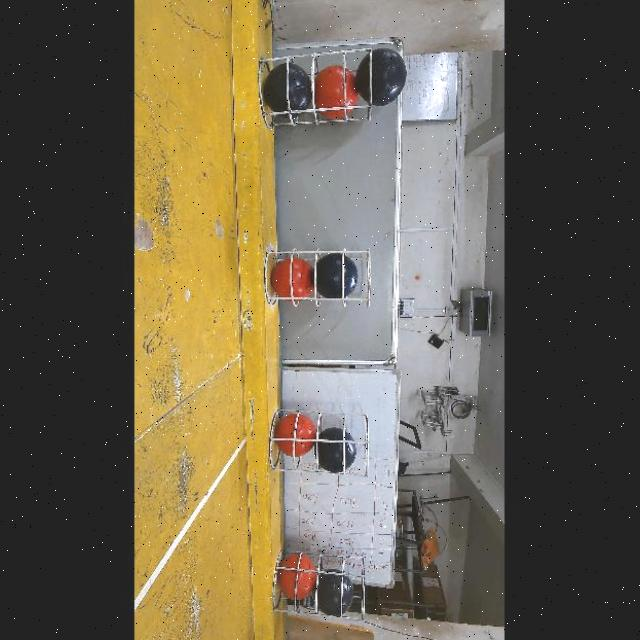P: (355, 48, 407, 106), (264, 60, 311, 116), (315, 253, 358, 298), (317, 428, 357, 474), (317, 568, 354, 617)
R: (312, 64, 358, 118), (270, 258, 313, 301), (274, 414, 316, 457), (278, 554, 317, 600)
S: (258, 42, 384, 121), (254, 251, 376, 311), (270, 412, 370, 476), (272, 557, 366, 615)
